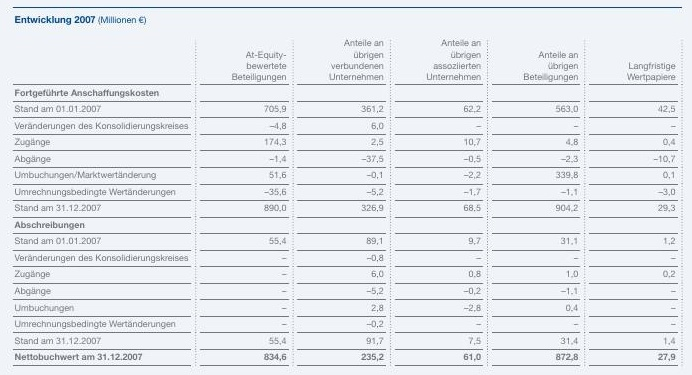table: (0, 0, 692, 375)
